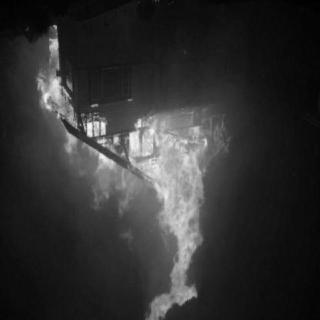Fire: (34, 20, 223, 318)
